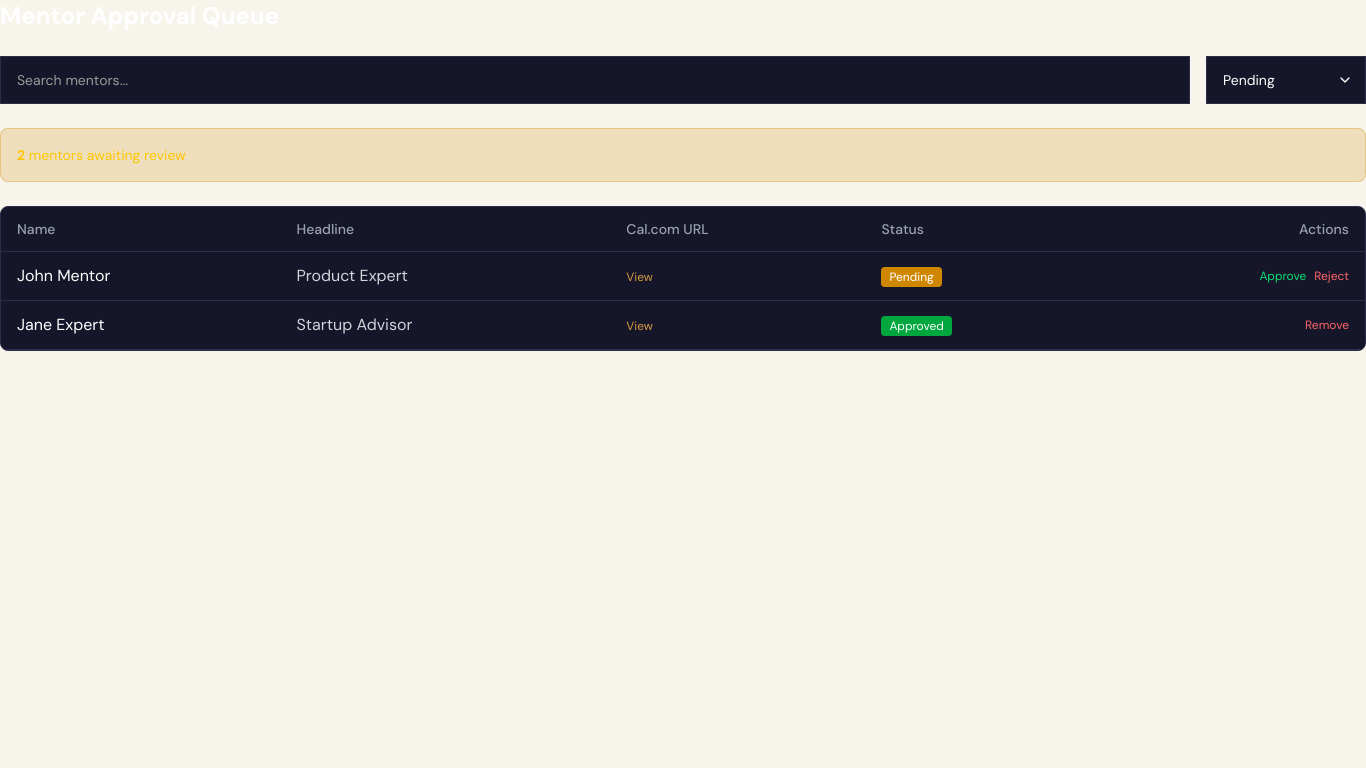
Test case: AdminMentorsPage › opens reject modal when reject clicked
Click the button "Reject": (1332, 276) [1314,268,1349,284]
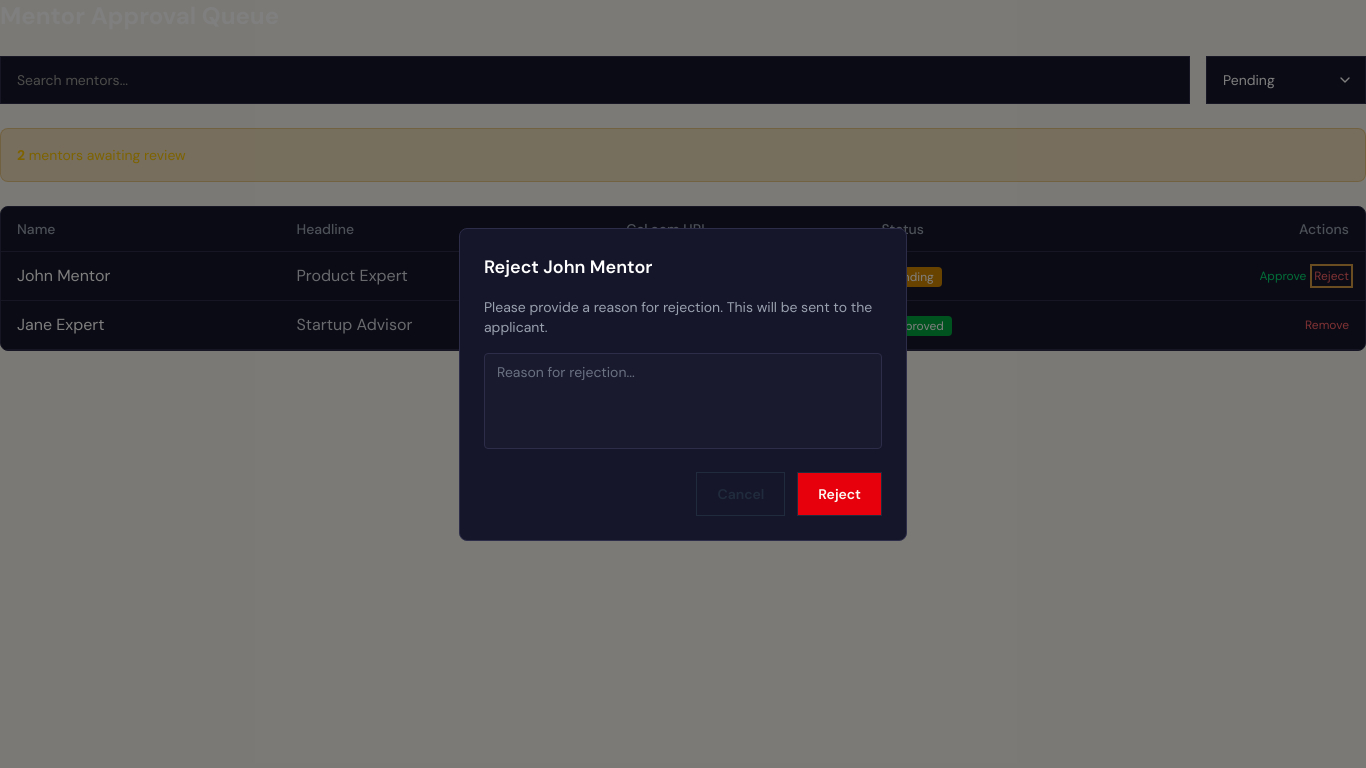
expect the heading "Reject John Mentor" is shown: met, box [484,254,652,278]
expect the text box with placeholder "Reason for rejection..." is shown: met, box [484,352,882,448]
